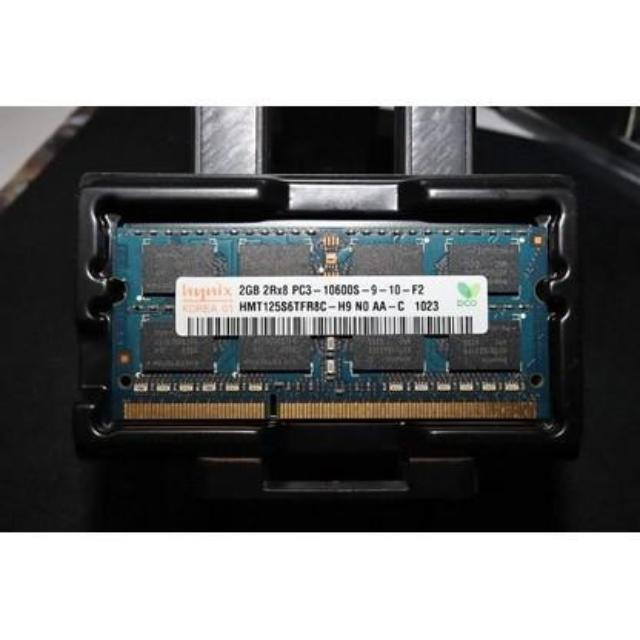RAM: (106, 214, 557, 428)
